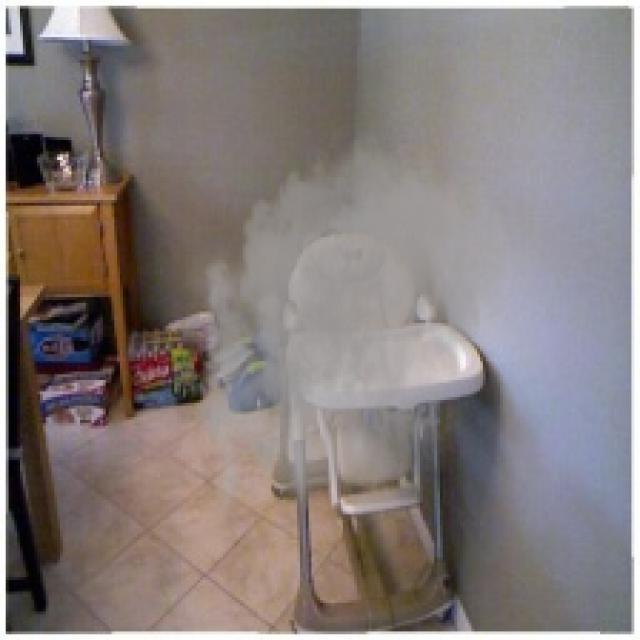Smoke: (180, 120, 523, 540)
